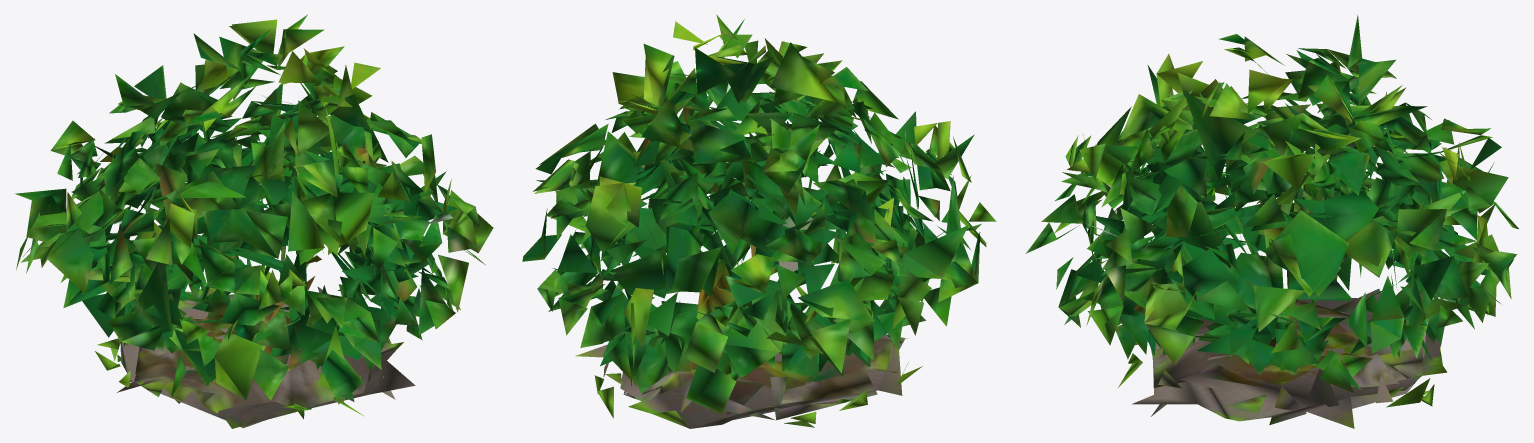
File: flower-bush.glb
3 views of the same model, side by side, from view 1: azimuth 30°, elevation 25°; view 2: azimuth 150°, elevation 25°; view 3: azimuth 270°, elevation 25° (orthographic). The views are drawn at different scales.
Visible parts, largest first — view 1: Mesh_0; view 2: Mesh_0; view 3: Mesh_0.
Part boxes in pixels (x1,y1,x2,y2): Mesh_0: [15, 14, 493, 428]; Mesh_0: [522, 14, 996, 428]; Mesh_0: [1025, 15, 1518, 428].
Size of the model in its own units: 1.62 by 1.25 by 1.66.
1 material, 1 textured.
